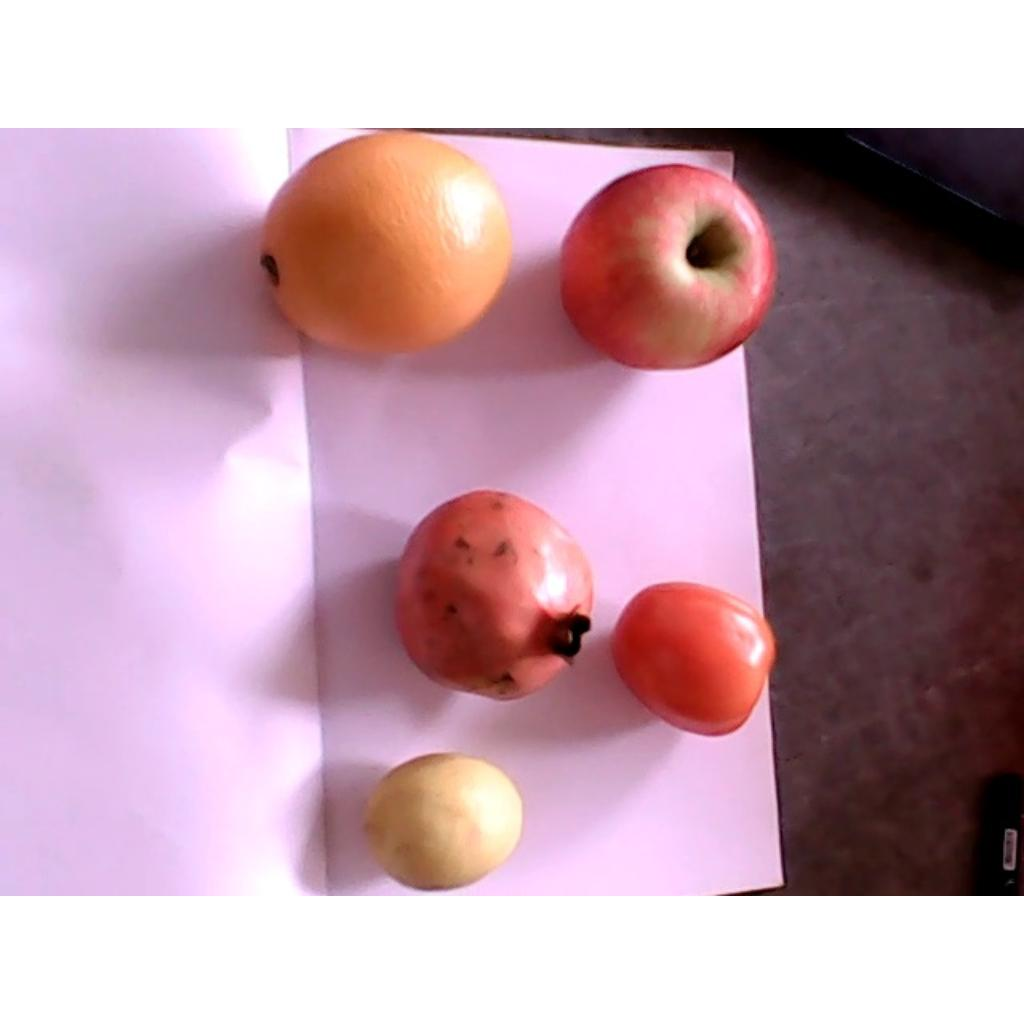apple: (559, 164, 779, 367)
lemon: (360, 753, 525, 889)
orange: (257, 134, 510, 358)
pomegranate: (392, 490, 594, 700)
tomato: (611, 584, 777, 735)
